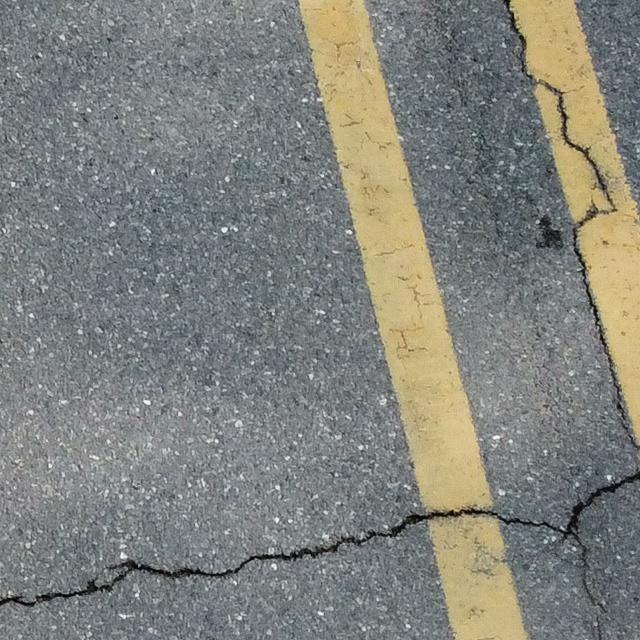LongitudinalCrack: (501, 1, 640, 450)
TransverseCrack: (2, 467, 640, 609)
